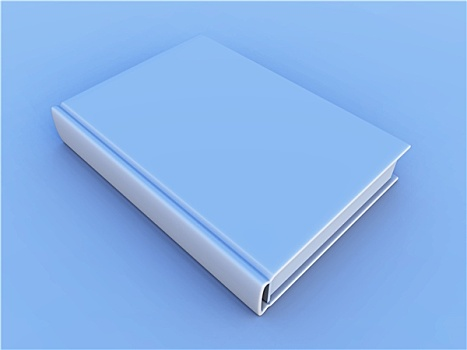book: (42, 32, 412, 320)
